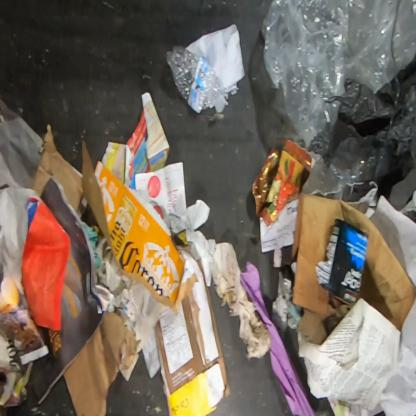cardboard: (83, 134, 194, 310), (291, 192, 415, 332), (154, 231, 231, 416), (64, 310, 138, 416), (31, 126, 85, 214)
rigid_plastic: (167, 46, 226, 116)
soft_plastic: (260, 0, 415, 151), (307, 56, 416, 202), (299, 151, 364, 201)
